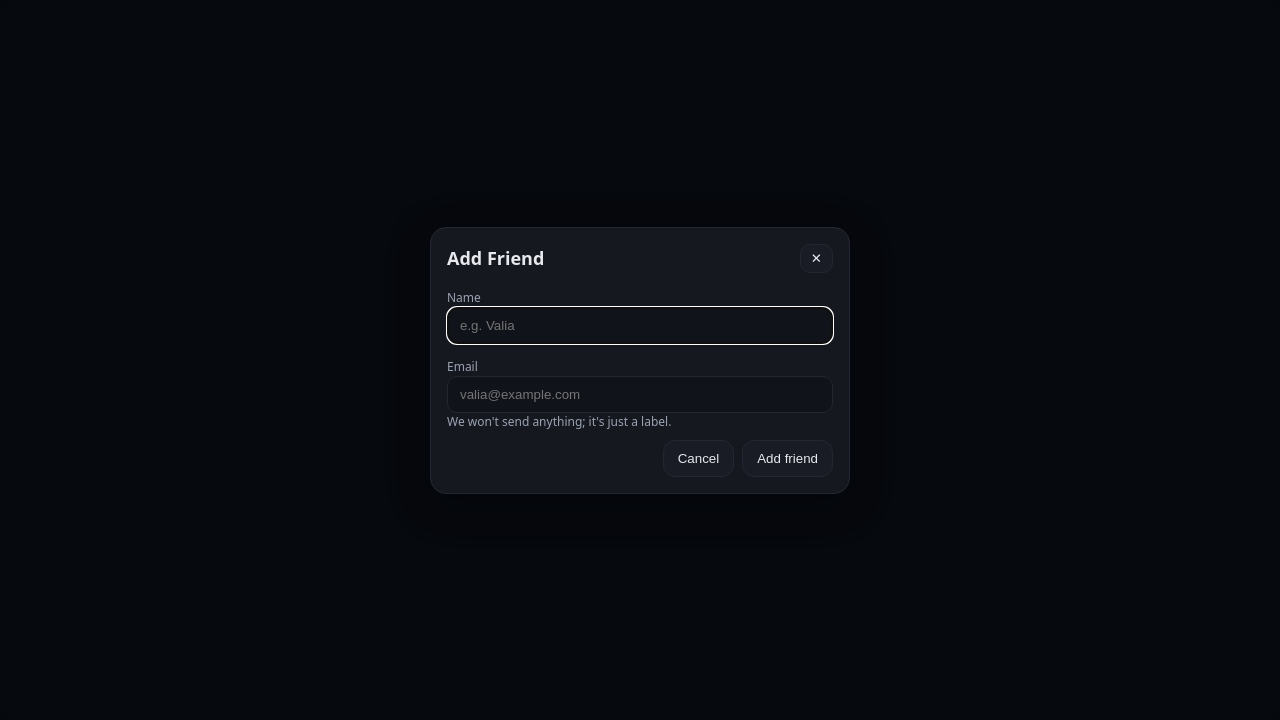
Scenario: AddFriendModal › shows error when submitting with empty email
This screenshot has width=1280, height=720.
Type "John" into the field labelled "Name" at x=640, y=325, box top-left (447, 306), bottom-right (833, 344)
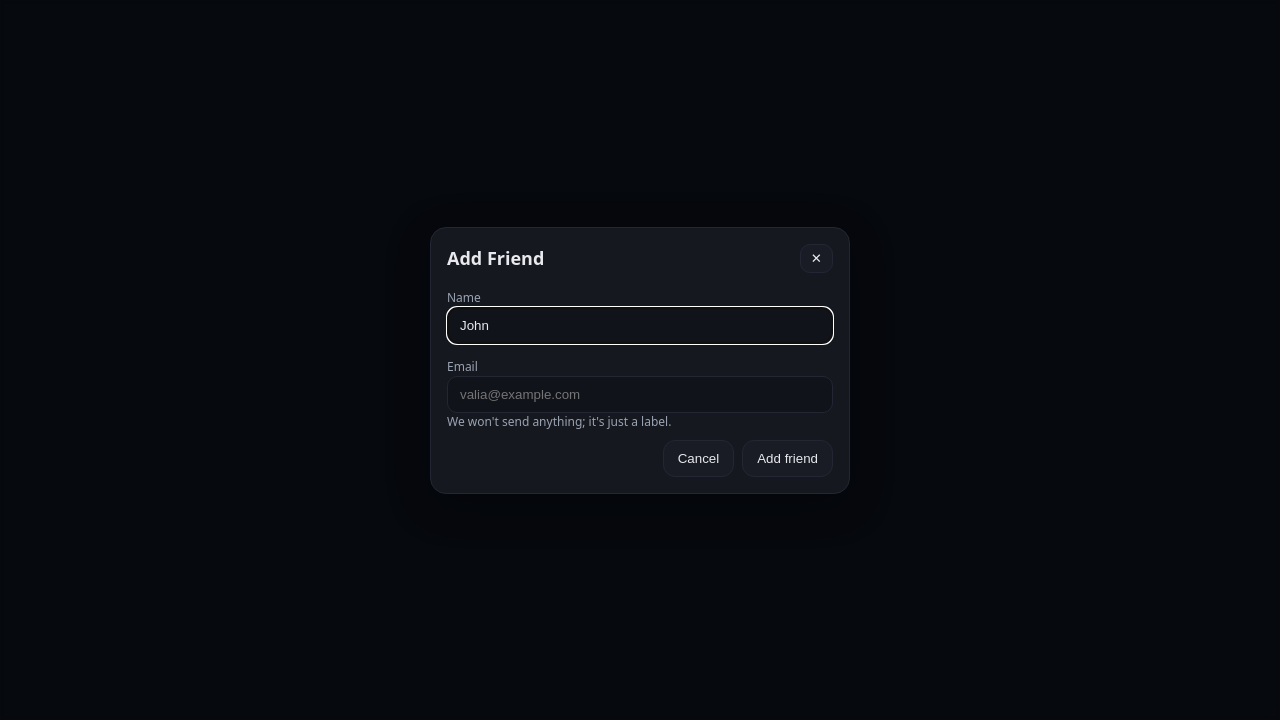
Click the button "Add friend" at x=788, y=458, box top-left (742, 440), bottom-right (833, 476)
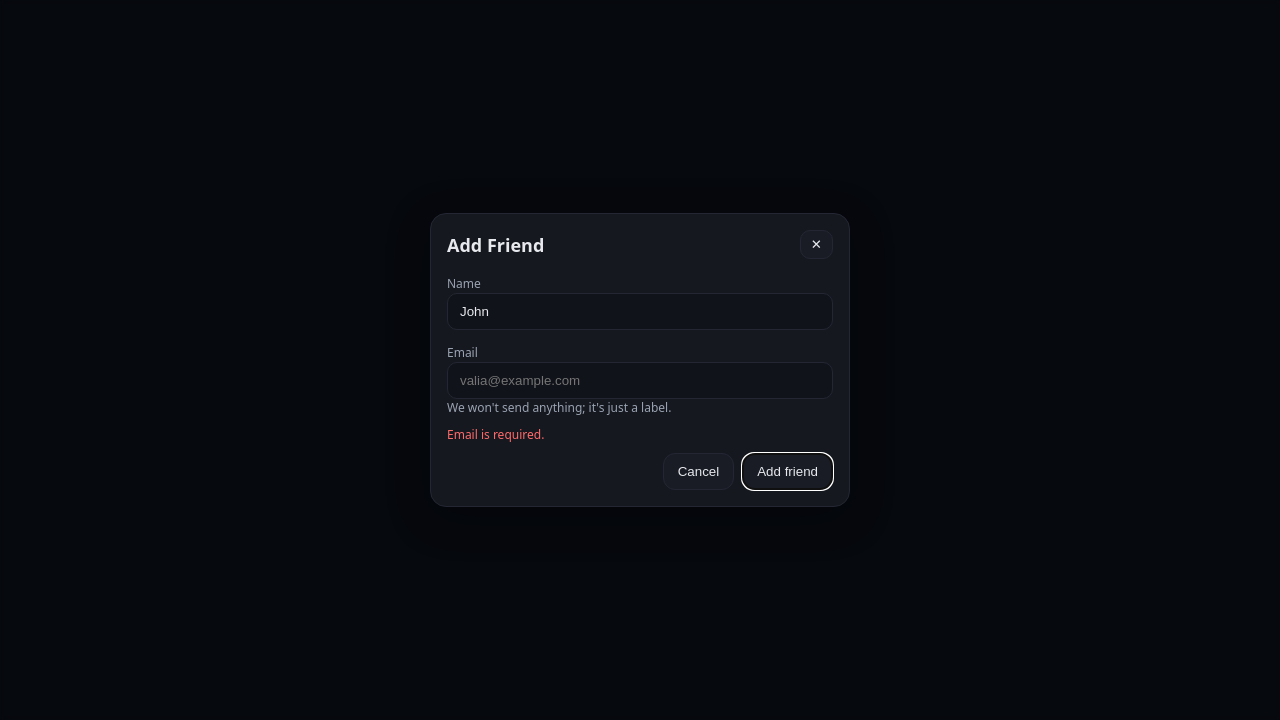
Check: the message reads "Email is required.", box top-left (447, 426), bottom-right (544, 443)
